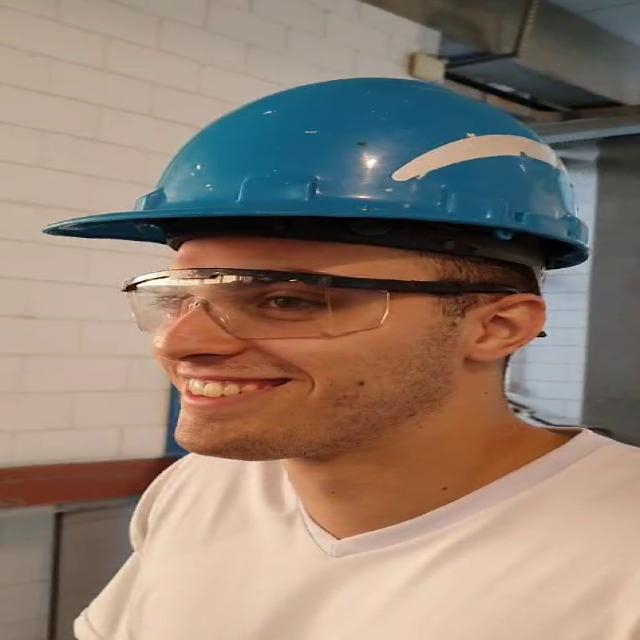oculos-epi: (122, 267, 517, 340)
